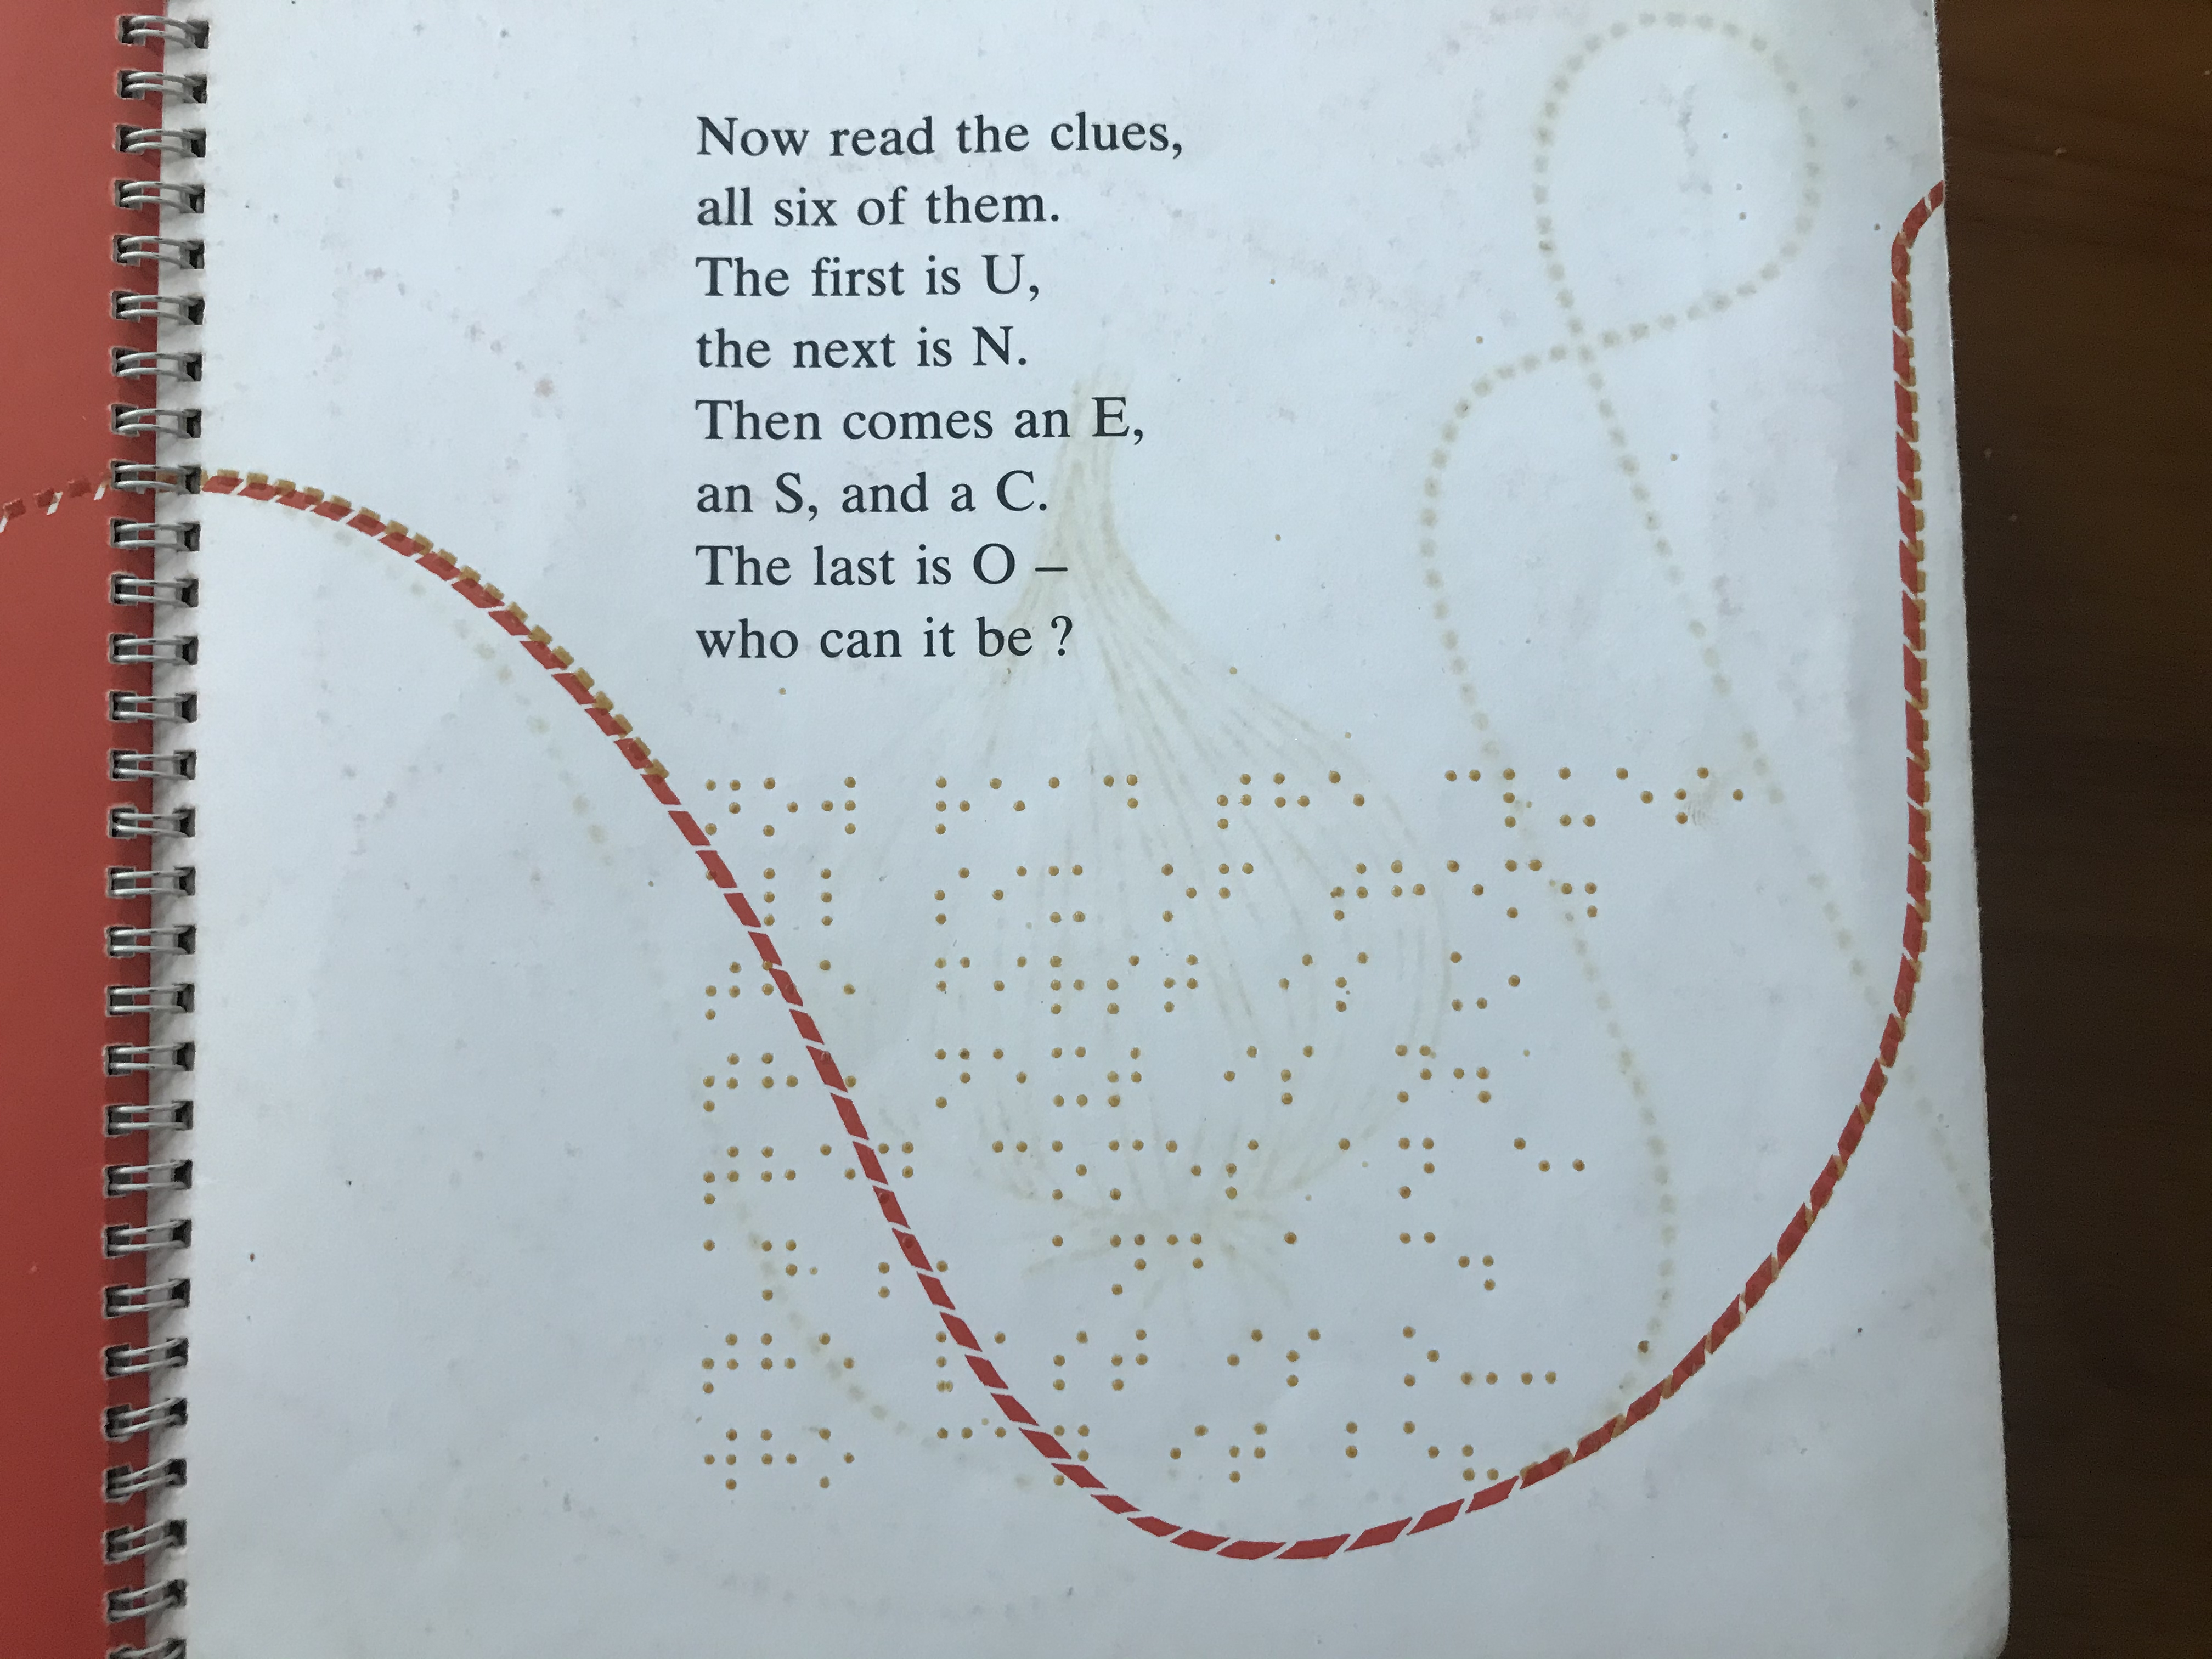Braille: (1278, 948, 1325, 1018), (817, 953, 860, 1028), (1505, 950, 1550, 1021), (759, 1049, 805, 1121), (817, 1140, 862, 1211), (932, 1236, 977, 1307), (758, 1237, 805, 1305), (817, 1047, 860, 1121), (1397, 1133, 1440, 1206), (1050, 1230, 1094, 1304), (817, 1422, 860, 1495), (813, 864, 860, 931), (1555, 763, 1599, 835), (1447, 948, 1491, 1019), (1108, 1230, 1151, 1302), (934, 1328, 977, 1399), (1163, 1230, 1209, 1298), (1334, 1134, 1376, 1208), (1503, 856, 1547, 925), (1049, 1044, 1092, 1114), (1458, 1420, 1501, 1490), (704, 1046, 744, 1121), (874, 1140, 916, 1211), (1399, 1227, 1440, 1298), (1458, 1227, 1500, 1298), (991, 1326, 1033, 1398), (758, 1424, 799, 1495), (932, 1046, 975, 1114), (1104, 1044, 1148, 1112), (1453, 1042, 1496, 1110), (1285, 1323, 1329, 1391), (702, 1422, 742, 1495), (1730, 765, 1775, 830), (705, 864, 751, 929), (1561, 857, 1602, 927), (1103, 950, 1144, 1019), (1052, 1422, 1094, 1492), (758, 1328, 798, 1399), (819, 1328, 859, 1399), (1615, 763, 1656, 831), (758, 1143, 799, 1211), (702, 1237, 747, 1300), (1402, 1324, 1444, 1392), (702, 958, 745, 1023), (1392, 1042, 1435, 1107), (1228, 1422, 1271, 1486), (1113, 1324, 1151, 1398), (1519, 1324, 1559, 1394), (1500, 767, 1541, 833), (1047, 953, 1089, 1019), (1221, 1138, 1263, 1204), (878, 1236, 920, 1302), (1224, 1323, 1266, 1389), (1458, 1326, 1500, 1392), (1446, 857, 1486, 925), (1163, 950, 1204, 1018), (991, 1046, 1031, 1114), (1221, 1040, 1261, 1108), (1278, 1040, 1318, 1108), (1165, 1136, 1205, 1204), (1568, 1134, 1608, 1202), (1284, 1230, 1324, 1298), (1101, 772, 1143, 836), (761, 864, 803, 929), (759, 958, 801, 1023), (1108, 1138, 1150, 1202), (1510, 1134, 1552, 1199), (1169, 1422, 1211, 1486), (1327, 863, 1371, 924), (1388, 859, 1428, 925), (991, 953, 1031, 1019), (702, 1143, 742, 1209), (986, 775, 1028, 838), (1672, 763, 1714, 826), (1216, 863, 1258, 925), (1343, 1420, 1385, 1483), (702, 1326, 738, 1398), (761, 772, 799, 840), (1049, 863, 1087, 931), (1334, 948, 1372, 1016), (1404, 1419, 1442, 1486), (932, 774, 972, 838), (1052, 1324, 1089, 1394), (1327, 769, 1366, 835), (702, 775, 742, 838), (1160, 863, 1200, 925), (934, 955, 974, 1018), (822, 772, 859, 840), (1045, 772, 1083, 836), (1050, 1138, 1089, 1202), (935, 1422, 974, 1486), (995, 1422, 1033, 1486), (1444, 767, 1484, 828), (1216, 769, 1254, 831), (1271, 770, 1310, 833), (935, 864, 972, 929), (991, 864, 1028, 929), (991, 1140, 1029, 1197)
